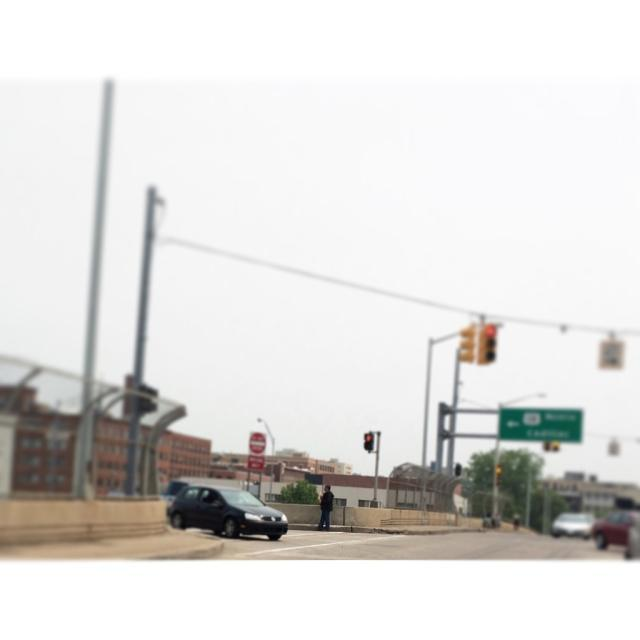off traffic light: (458, 318, 477, 364)
traffic light: (477, 323, 499, 368), (362, 430, 374, 452)
